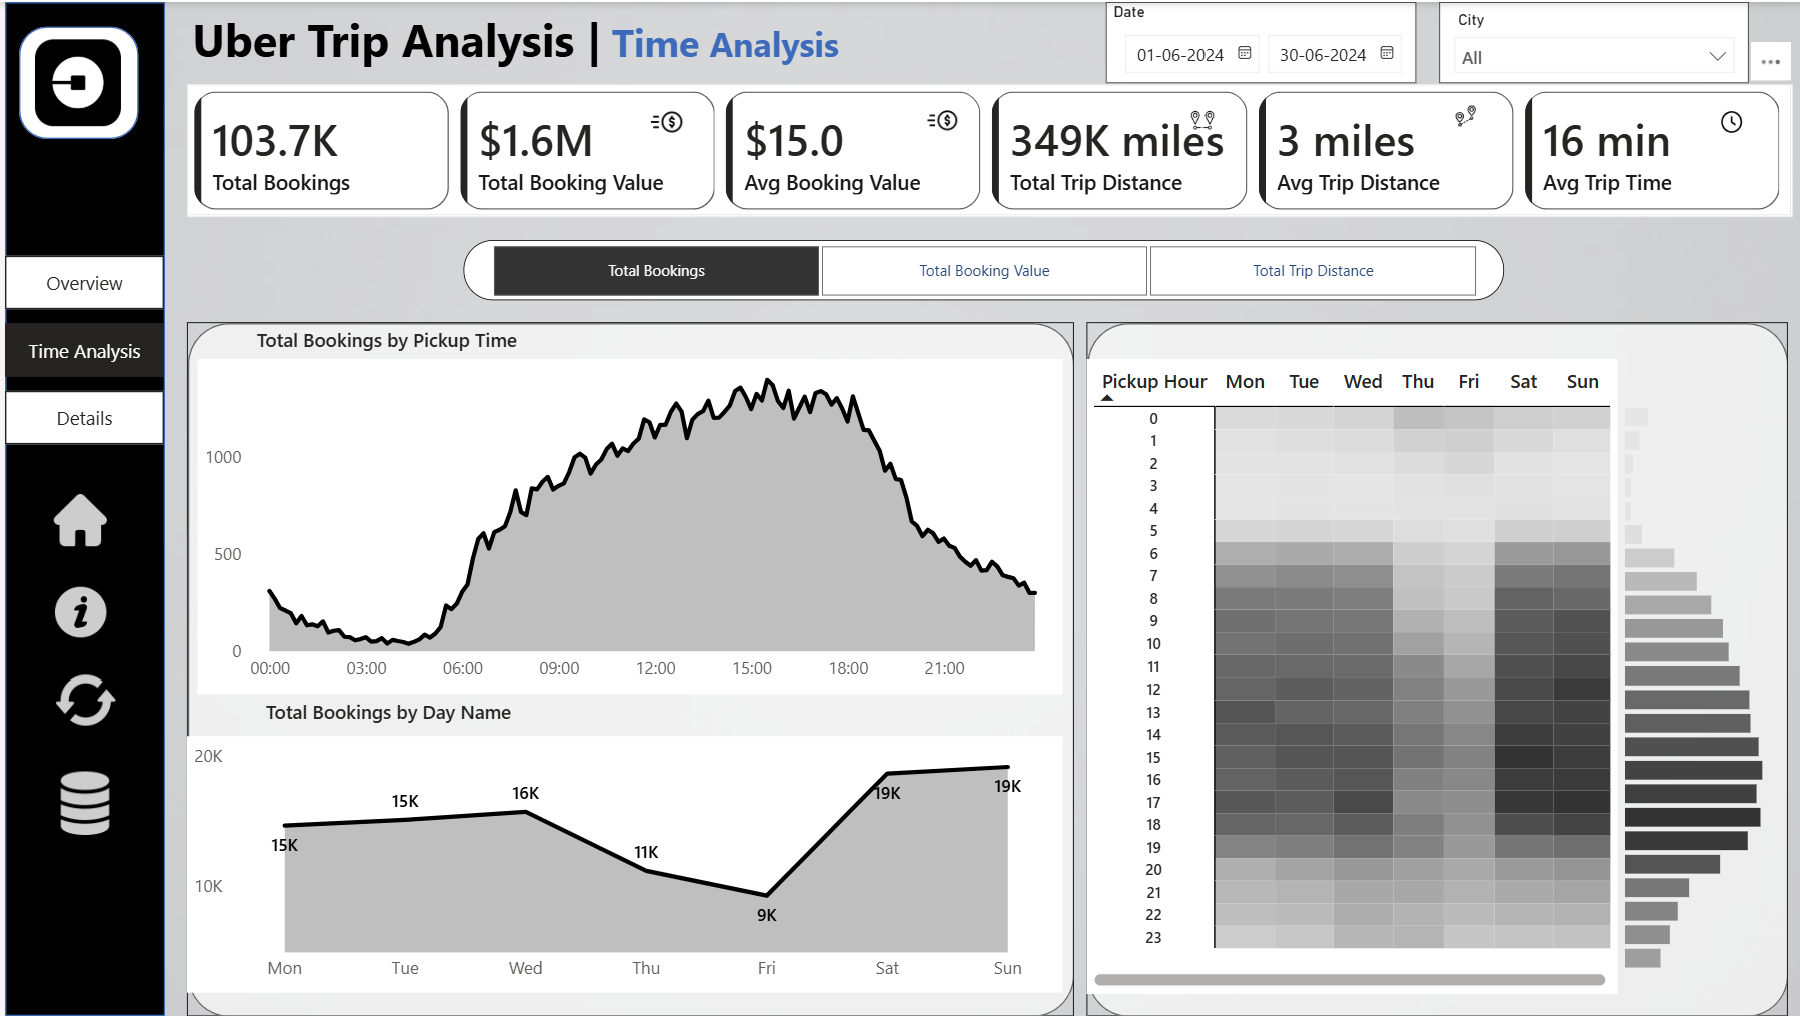

Layout of this report page (visuals, bound fields, positions):
{"tool":"powerbi","page":{"name":"Time Analysis","canvas":[1280,720],"ordinal":1},"visuals":[{"type":"shape","box":[0,0,113.8,720],"z":0},{"type":"shape","box":[128.8,227.5,630,492.5],"z":1000},{"type":"textbox","box":[128.6,0,591.4,62.9],"z":2000},{"type":"cardVisual","fields":{"Data":["Trip Details.Total Bookings","Trip Details.Total Booking Value","Trip Details.Avg Booking Amount","Trip Details.Total Trip Distance","Trip Details.Avg Trip Distance","Trip Details.Avg Trip Time"]},"box":[128.9,58,1140,94.3],"z":2000,"group":"g1"},{"type":"group","id":"g1","title":"Group 1","box":[128.9,58,1140,94.3],"z":3000},{"type":"image","box":[836.1,70.2,27.5,26.2],"z":3000,"group":"g1"},{"type":"slicer","title":"Date","fields":{"Values":["Calender table.Date"]},"box":[782.5,0,220,57.5],"z":4000},{"type":"image","box":[453.6,67.7,32.5,33.8],"z":4000,"group":"g1"},{"type":"slicer","fields":{"Values":["Location Table.City"]},"box":[1018.8,0,220,57.5],"z":5000},{"type":"image","box":[1213.6,67.7,25,33.8],"z":5000,"group":"g1"},{"type":"image","box":[1021.1,67.7,33.8,25],"z":6000,"group":"g1"},{"type":"areaChart","fields":{"Y":["Trip Details.Total Bookings"],"Category":["Trip Details.Pickup hour (HH MM SS) (bins)"]},"box":[136.2,253.8,615,237.5],"z":6000},{"type":"image","box":[649.8,67.7,31.2,31.2],"z":7000,"group":"g1"},{"type":"slicer","fields":{"Values":["dynamic measure .dynamic measure "]},"box":[325.3,168.8,738.6,42.8],"z":7000},{"type":"areaChart","fields":{"Y":["Trip Details.Total Bookings"],"Category":["Calender table.Day Name"]},"box":[128.8,521.2,622.5,182.5],"z":8000},{"type":"shape","box":[768.8,227.5,497.5,492.5],"z":9000},{"type":"card","fields":{"Values":["Trip Details.Title for by Day Name"]},"box":[137.5,491.2,268.8,30],"z":10000},{"type":"card","fields":{"Values":["Trip Details.Title for by pickup time"]},"box":[136.2,227.5,268.8,30],"z":11000},{"type":"pivotTable","fields":{"Values":["Trip Details.Total Bookings"],"Rows":["Trip Details.Pickup Hour"],"Columns":["Calender table.Day Name"]},"box":[768.8,253.8,376.2,450],"z":12000},{"type":"barChart","fields":{"Y":["Trip Details.Total Bookings"],"Category":["Trip Details.Pickup Hour"]},"box":[1145,275,108.8,432.5],"z":13000},{"type":"shape","box":[10,17.5,85,80],"z":13001},{"type":"image","box":[16.2,17.5,71.2,80],"z":13002},{"type":"pageNavigator","box":[0,180,113.8,136.2],"z":13003},{"type":"image","box":[15,410,77.5,46.2],"z":13004},{"type":"image","box":[31.2,468.8,52.5,53.8],"z":13005},{"type":"image","box":[26.2,345,55,47.5],"z":13006},{"type":"image","box":[21.2,541.2,71.2,55],"z":13007}]}

Visuals, with their boxes on the page's 1280x720 design canvas (x1, y1, x2, y2). These are canvas units, not pixel positions in the 1800x1016 screenshot, which may show the page scaled, cropped or inside an application window:
shape: detection(0, 0, 114, 720)
shape: detection(129, 228, 759, 720)
textbox: detection(129, 0, 720, 63)
cardVisual - Trip Details.Total Bookings x Trip Details.Total Booking Value: detection(129, 58, 1269, 152)
"Group 1" group: detection(129, 58, 1269, 152)
image: detection(836, 70, 864, 96)
"Date" slicer: detection(782, 0, 1002, 58)
image: detection(454, 68, 486, 102)
slicer - Location Table.City: detection(1019, 0, 1239, 58)
image: detection(1214, 68, 1239, 102)
image: detection(1021, 68, 1055, 93)
areaChart - Trip Details.Total Bookings x Trip Details.Pickup hour (HH MM SS) (bins): detection(136, 254, 751, 491)
image: detection(650, 68, 681, 99)
slicer - dynamic measure .dynamic measure : detection(325, 169, 1064, 212)
areaChart - Trip Details.Total Bookings x Calender table.Day Name: detection(129, 521, 751, 704)
shape: detection(769, 228, 1266, 720)
card - Trip Details.Title for by Day Name: detection(138, 491, 406, 521)
card - Trip Details.Title for by pickup time: detection(136, 228, 405, 258)
pivotTable - Trip Details.Total Bookings x Trip Details.Pickup Hour: detection(769, 254, 1145, 704)
barChart - Trip Details.Total Bookings x Trip Details.Pickup Hour: detection(1145, 275, 1254, 708)
shape: detection(10, 18, 95, 98)
image: detection(16, 18, 87, 98)
pageNavigator: detection(0, 180, 114, 316)
image: detection(15, 410, 92, 456)
image: detection(31, 469, 84, 523)
image: detection(26, 345, 81, 392)
image: detection(21, 541, 92, 596)
